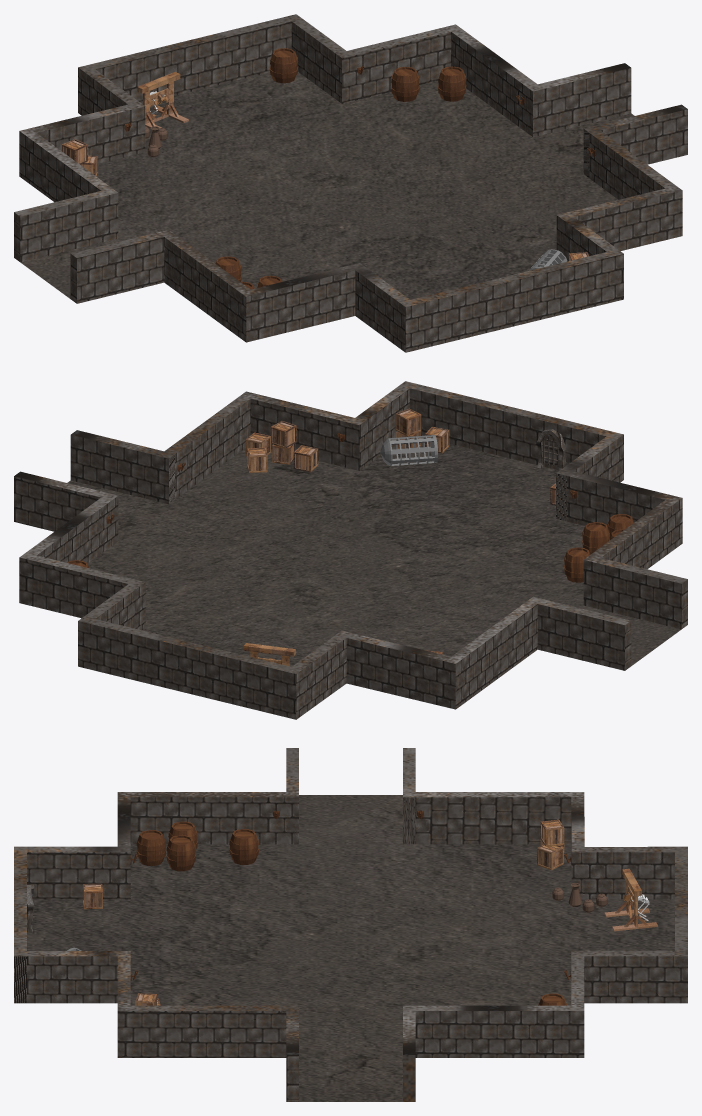
The model's file is room_I.gltf.
3 views of the same model, one above another, from view 1: azimuth 30°, elevation 25°; view 2: azimuth 150°, elevation 25°; view 3: azimuth 270°, elevation 25° (orthographic). The views are drawn at different scales.
Visible parts, largest first — view 1: Plane.001, Plane.003, Cube.015, beczka.004, beczka.005, beczka.001; view 2: Plane.001, Plane.003, Cylinder.016, Cube.008, beczka.006, beczka.007, Cube.015, Cube.004, Cube.010, Cube.002, Cube.006; view 3: Plane.003, Plane.001, Cube.015, beczka.007, beczka.006, beczka.003, Cube.014, Cube.003.
Boxes of the visible parts, x1,y1,x2,y2 form: Plane.001: (14,14,687,352); Plane.003: (20,72,634,299); Cube.015: (137,72,188,128); beczka.004: (391,66,419,101); beczka.005: (438,66,466,101); beczka.001: (270,48,298,83); Plane.001: (14,381,687,719); Plane.003: (67,437,681,666); Cylinder.016: (380,435,437,465); Cube.008: (536,429,566,470); beczka.006: (564,547,590,582); beczka.007: (582,522,609,554); Cube.015: (243,643,295,666); Cube.004: (270,421,296,448); Cube.010: (395,408,421,436); Cube.002: (293,445,318,472); Cube.006: (247,447,267,472); Plane.003: (27,795,674,1101); Plane.001: (14,748,687,1101); Cube.015: (604,868,657,931); beczka.007: (166,835,196,871); beczka.006: (229,829,258,864); beczka.003: (136,830,166,865); Cube.014: (540,819,564,846); Cube.003: (537,844,563,870).
Size of the model in its own units: 28 by 2.05 by 26.
Materials: 7 (4 with a texture image).
